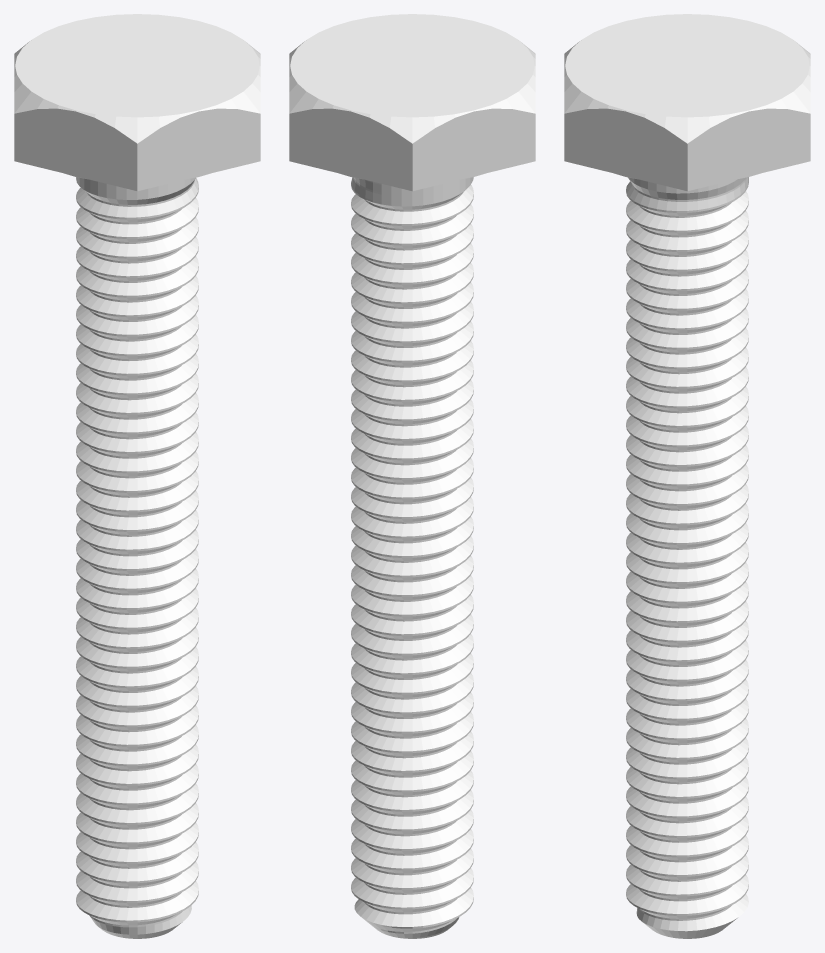
3 views of the same model, side by side, from view 1: azimuth 30°, elevation 25°; view 2: azimuth 150°, elevation 25°; view 3: azimuth 270°, elevation 25° (orthographic).
Parts seen in each view (by area): view 1: M4x30; view 2: M4x30; view 3: M4x30.
Boxes of the visible parts, x1,y1,x2,y2 form: M4x30: (14,14,260,938); M4x30: (289,14,535,938); M4x30: (564,14,810,938).
Bounding box in the file's own units: 924 × 3070 × 800.
Materials: 1 (1 with a texture image).
